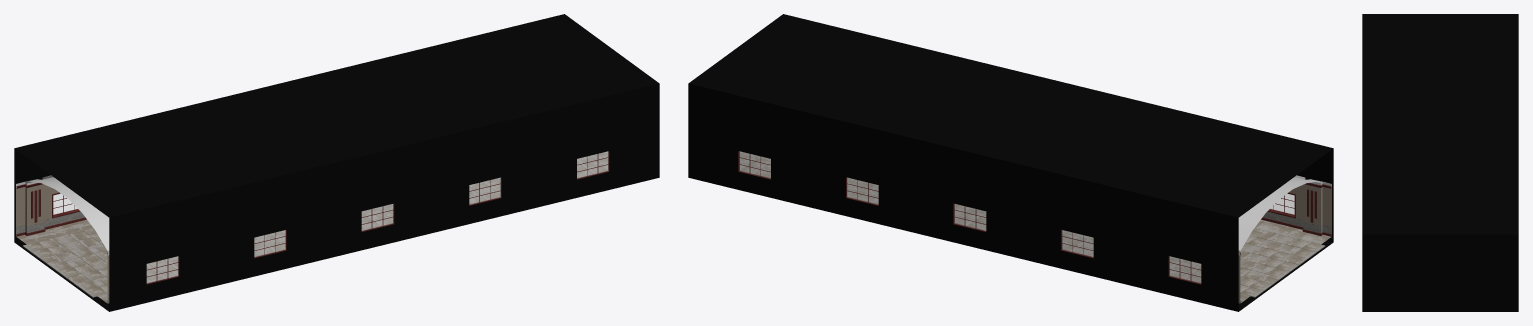
Rendered from gallery_museum_showroom_banquet_hall-transformed.glb.
The picture shows the model from 3 angles, left to right: view 1: azimuth 30°, elevation 25°; view 2: azimuth 150°, elevation 25°; view 3: azimuth 270°, elevation 25°; orthographic projection. The views are drawn at different scales.
Parts seen in each view (by area): view 1: Material2 (×7); view 2: Material2 (×7); view 3: Material2.
Part boxes in pixels (bbox=[...]): Material2 (×7): bbox=[14, 14, 659, 311]; Material2 (×7): bbox=[688, 14, 1333, 311]; Material2: bbox=[1362, 14, 1518, 311].
Size of the model in its own units: 1451 by 236 by 430.
9 materials, 6 textured.
